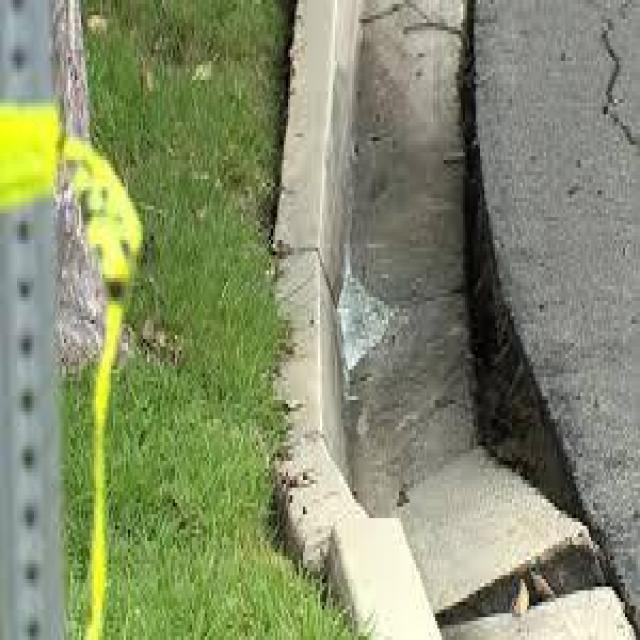curb: (276, 1, 382, 591)
